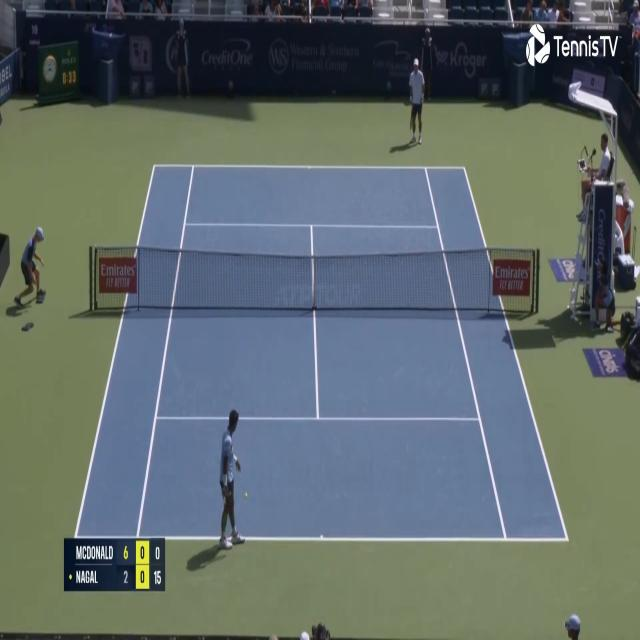tennis-player: (216, 403, 247, 556), (405, 56, 427, 148)
